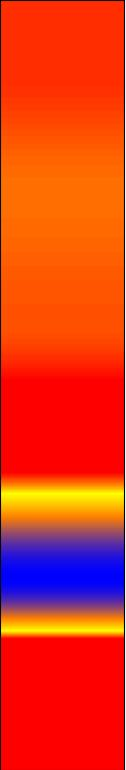Thermal Runaway: (8, 7, 111, 520), (6, 620, 121, 768)
critical: (6, 600, 119, 615), (10, 525, 110, 539)
safe: (4, 545, 120, 592)
